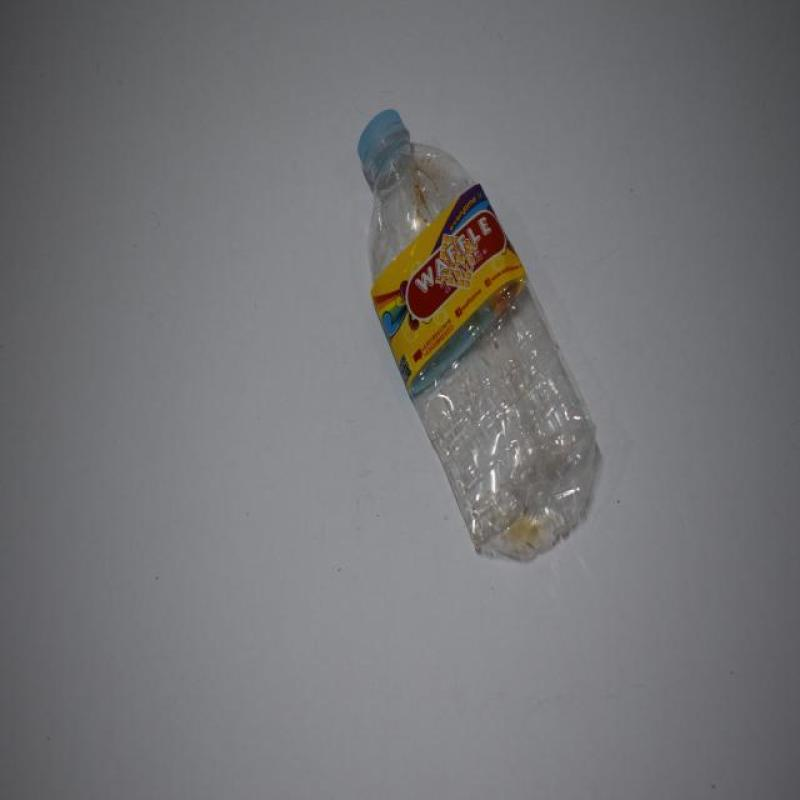botella: (359, 108, 599, 562)
